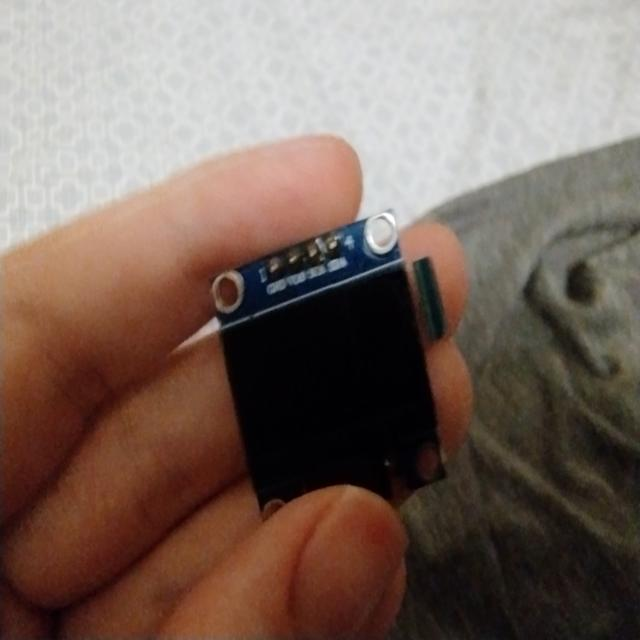oled: (213, 198, 449, 552)
